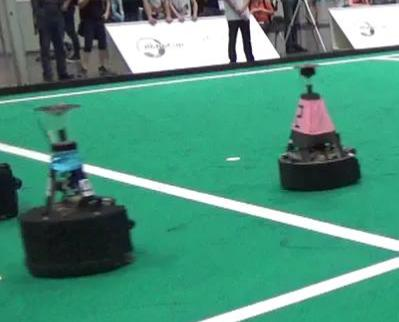robot: (12, 98, 137, 280), (274, 62, 364, 193)
